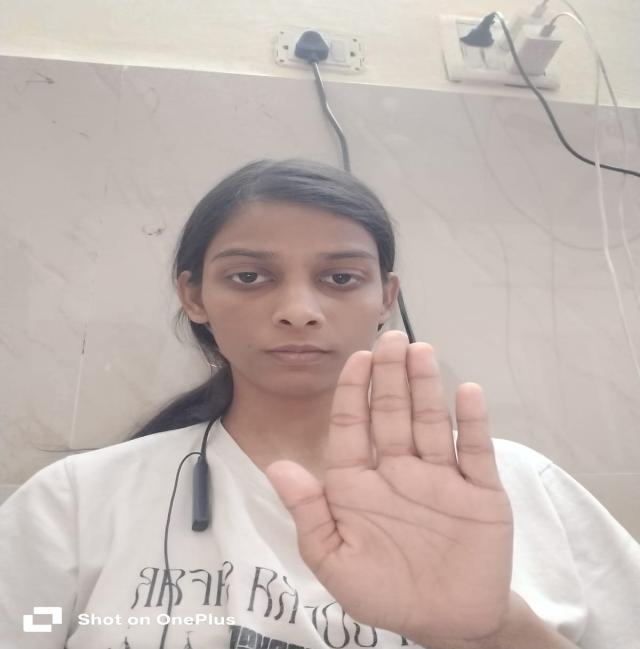Hello: (258, 319, 538, 646)
